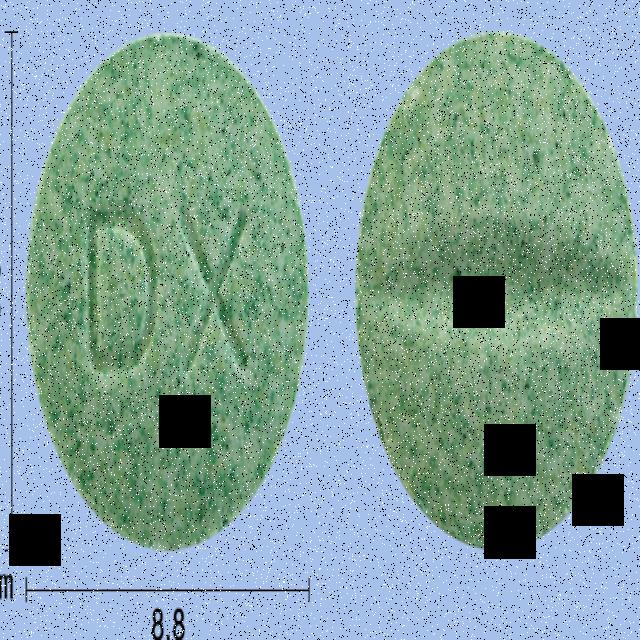Doxymycin N: (27, 31, 309, 551)
